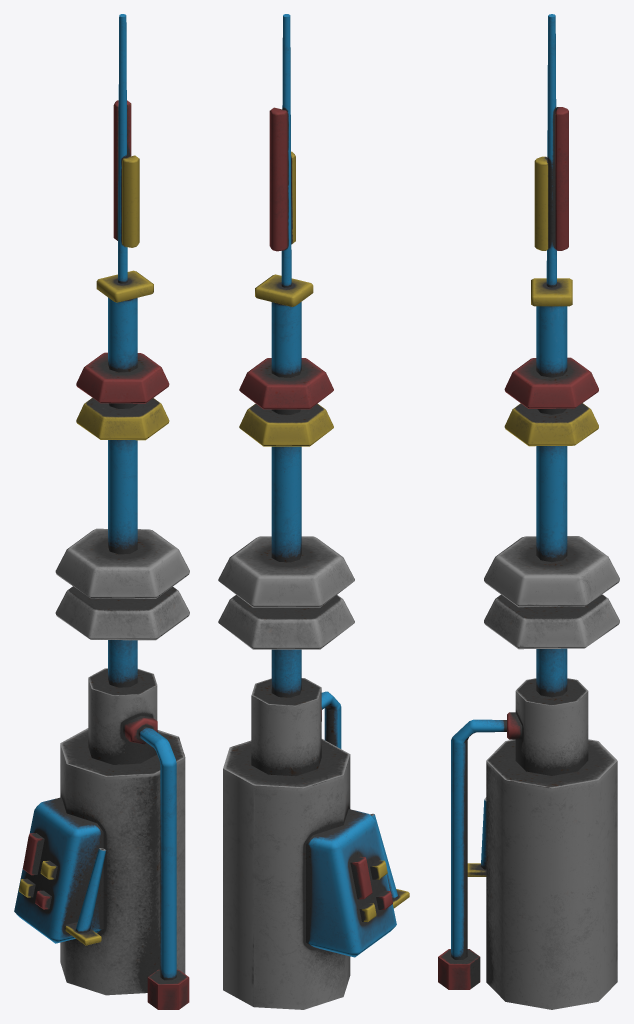
Rendered from SM_Props_39.fbx.
The picture shows the model from 3 angles, left to right: view 1: azimuth 30°, elevation 25°; view 2: azimuth 150°, elevation 25°; view 3: azimuth 270°, elevation 25°; orthographic projection.
Visible parts, largest first — view 1: SM_Props_39; view 2: SM_Props_39; view 3: SM_Props_39.
Boxes of the visible parts, x1,y1,x2,y2 form: SM_Props_39: (14,14,189,1009); SM_Props_39: (218,14,409,1009); SM_Props_39: (438,14,619,1009).
Size of the model in its own units: 39.88 by 41.44 by 243.
